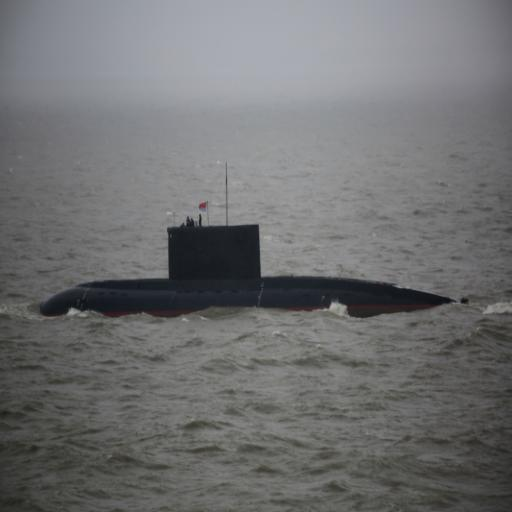submarine: (38, 223, 462, 321)
